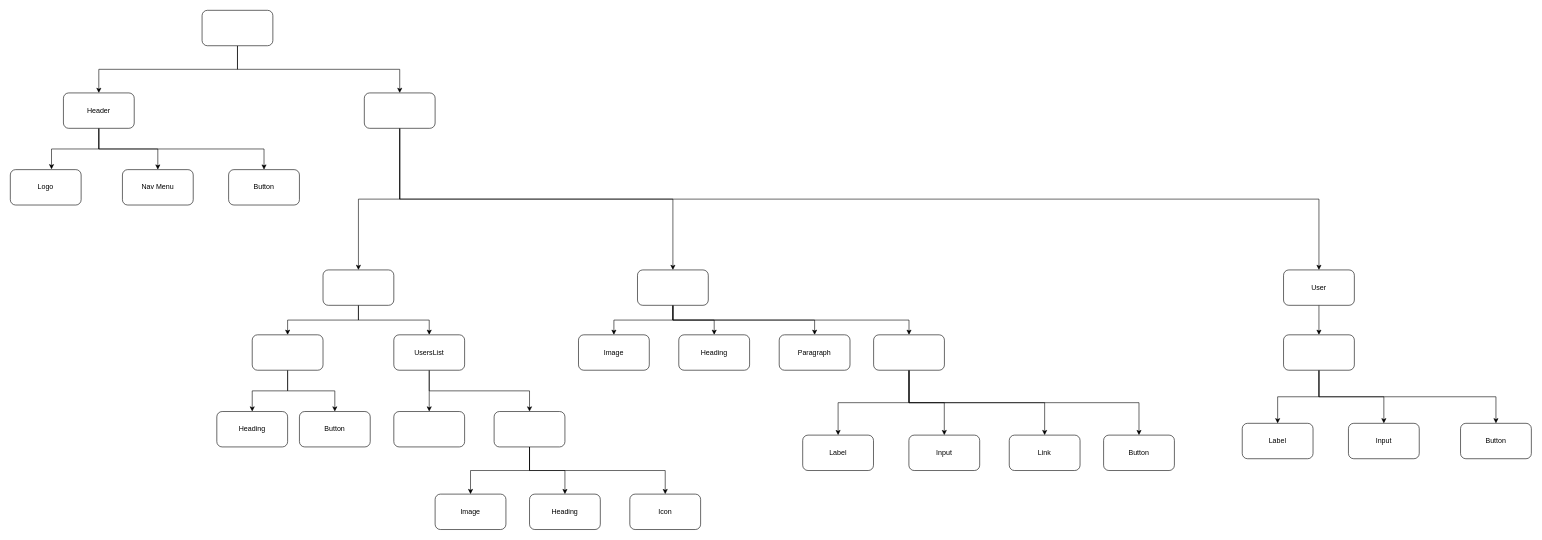
This 1542x540 diagram has some shape labels left out. The centre of each missing label's shape, as x and y in pixels:
App: point (237, 28)
Content: point (399, 110)
Login: point (672, 287)
LoginForm: point (908, 352)
PageHeading: point (287, 352)
UserForm: point (1318, 352)
UserHeaderRow: point (429, 429)
UserRow: point (529, 429)
Users: point (358, 287)
